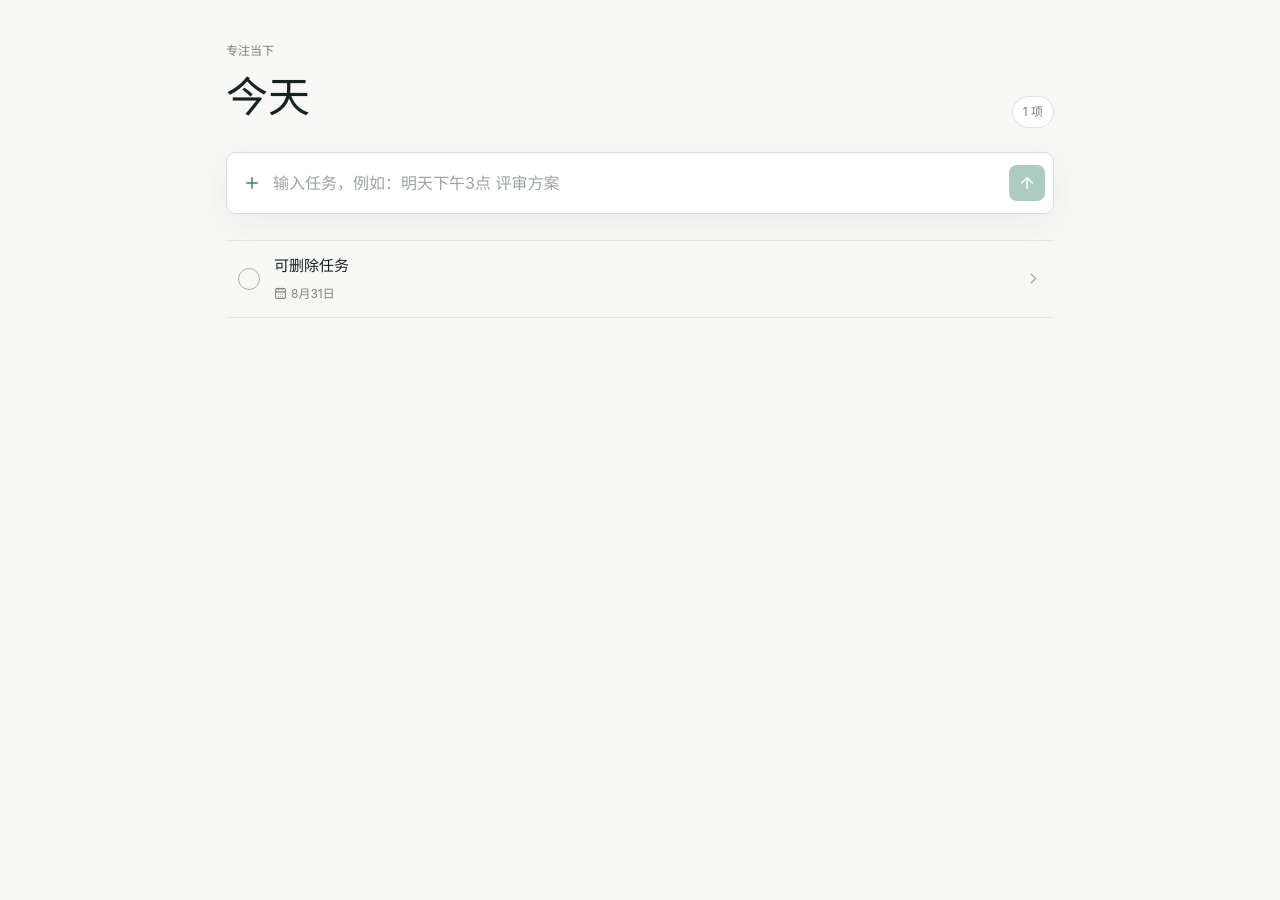
Test: TaskListPage › requires confirmation before removing a task
The image size is (1280, 900).
Click the button with aria-label "编辑“可删除任务”" at [312, 266], box x1=274 y1=241 x2=1054 y2=316
(page scrolled)
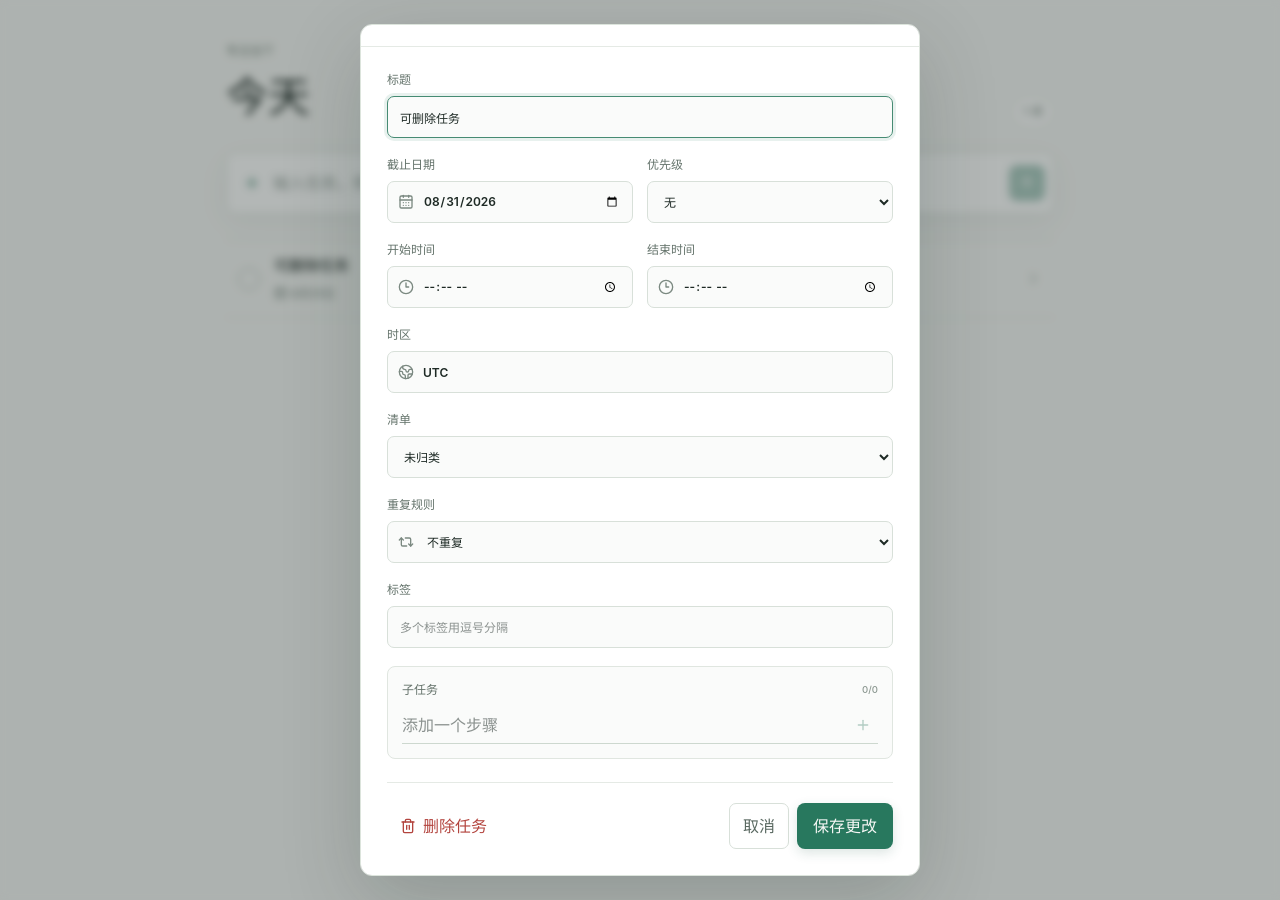
Click the button "删除任务" at [444, 826], box x1=387 y1=806 x2=500 y2=846
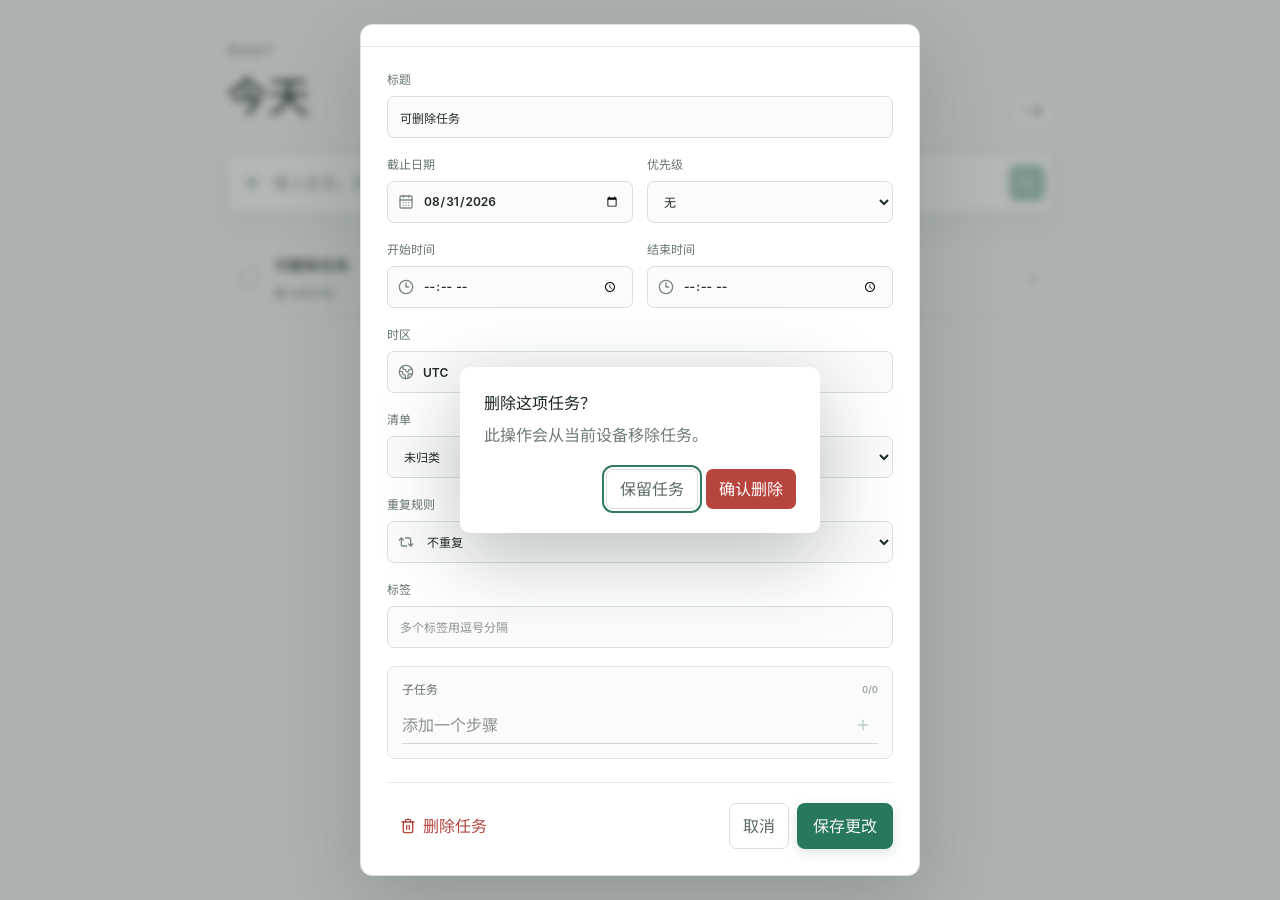
Result: the dialog "确认删除" is shown at x1=460 y1=367 x2=820 y2=533
Click the button "确认删除" at [751, 489], box x1=706 y1=469 x2=796 y2=509
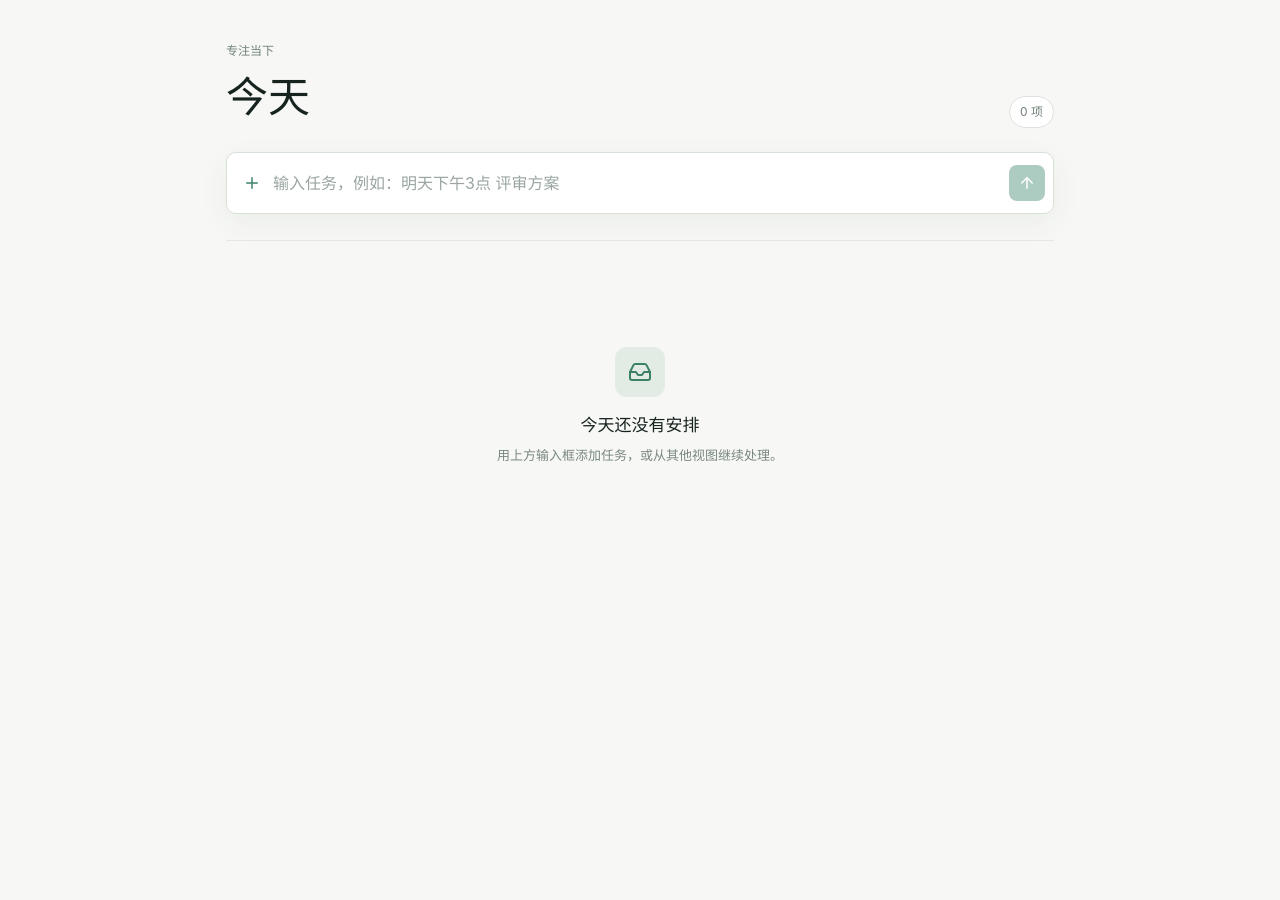
Result: the button "可删除任务" is gone
